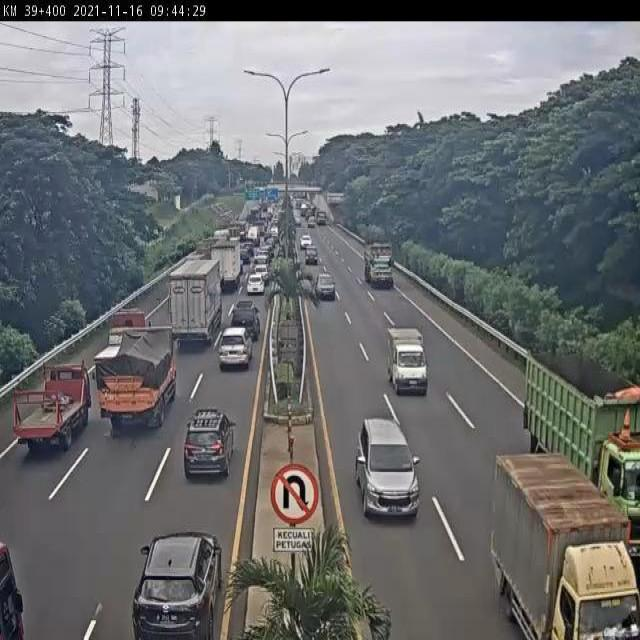car: (131, 530, 223, 640), (355, 418, 420, 518), (184, 407, 235, 477), (218, 329, 250, 372), (231, 302, 259, 342), (315, 272, 336, 299), (245, 276, 264, 296)
small truck: (493, 456, 640, 640), (12, 363, 94, 448), (94, 310, 152, 370), (387, 328, 428, 395)
truck-l-: (526, 351, 640, 558), (167, 262, 218, 346)
truck-m-: (97, 325, 177, 432), (210, 244, 239, 289)
